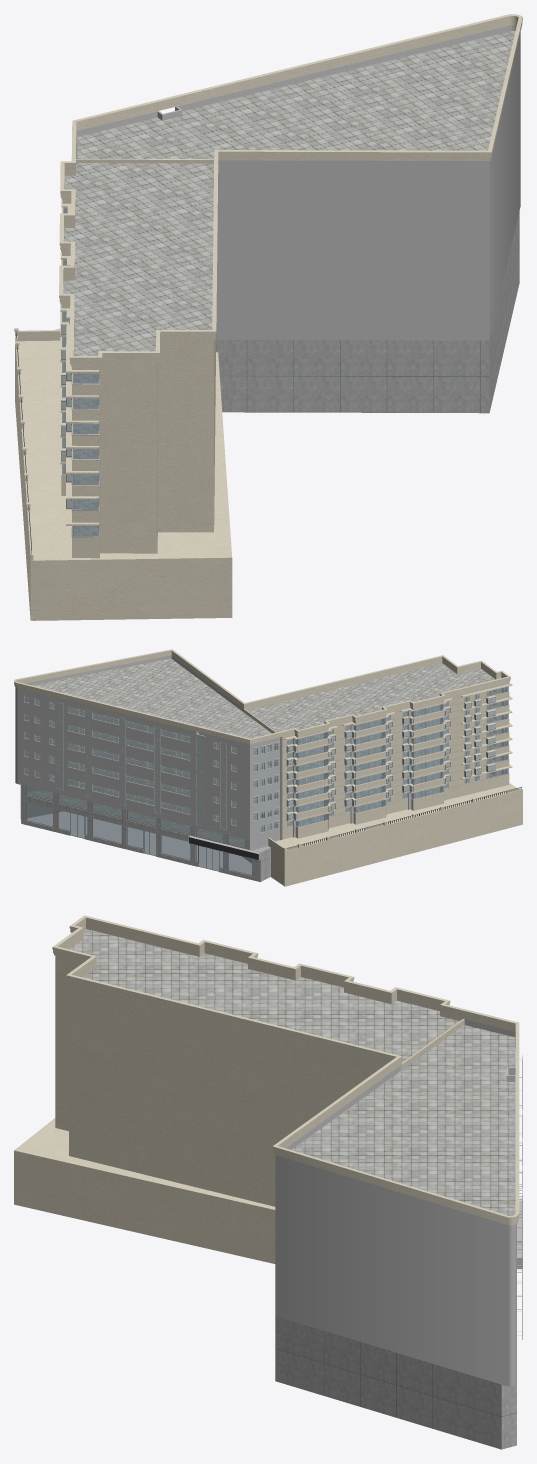
File: gzl_suiyuandasha_01.FBX
The picture shows the model from 3 angles, top to bottom: view 1: azimuth 30°, elevation 25°; view 2: azimuth 150°, elevation 25°; view 3: azimuth 270°, elevation 25°; orthographic projection. The views are drawn at different scales.
Parts seen in each view (by area): view 1: gzl_suiyuandasha_01, Line711, JZ=楼板003, JZ=玻璃003, Rectangle1420; view 2: Line711, gzl_suiyuandasha_01, JZ=楼板003, JZ=玻璃003, 18-穿孔板003, Rectangle1420, Rectangle1425, JZ=金属004, Rectangle1423; view 3: Line711, gzl_suiyuandasha_01, JZ=楼板003, JZ=金属004.
Boxes of the visible parts, <box> form: gzl_suiyuandasha_01: <box>76,25,520,413</box>; Line711: <box>14,14,522,620</box>; JZ=楼板003: <box>63,31,515,535</box>; JZ=玻璃003: <box>62,207,98,536</box>; Rectangle1420: <box>62,208,99,536</box>; Line711: <box>14,649,522,886</box>; gzl_suiyuandasha_01: <box>15,655,280,881</box>; JZ=楼板003: <box>27,658,501,847</box>; JZ=玻璃003: <box>24,686,508,831</box>; 18-穿孔板003: <box>56,697,495,837</box>; Rectangle1420: <box>23,688,508,832</box>; Rectangle1425: <box>26,697,522,876</box>; JZ=金属004: <box>55,702,444,860</box>; Rectangle1423: <box>280,693,508,840</box>; Line711: <box>14,915,519,1263</box>; gzl_suiyuandasha_01: <box>275,1019,516,1449</box>; JZ=楼板003: <box>69,929,515,1215</box>; JZ=金属004: <box>517,1055,522,1339</box>.
Bounding box in the file's own units: 89524 × 31100 × 61008.
